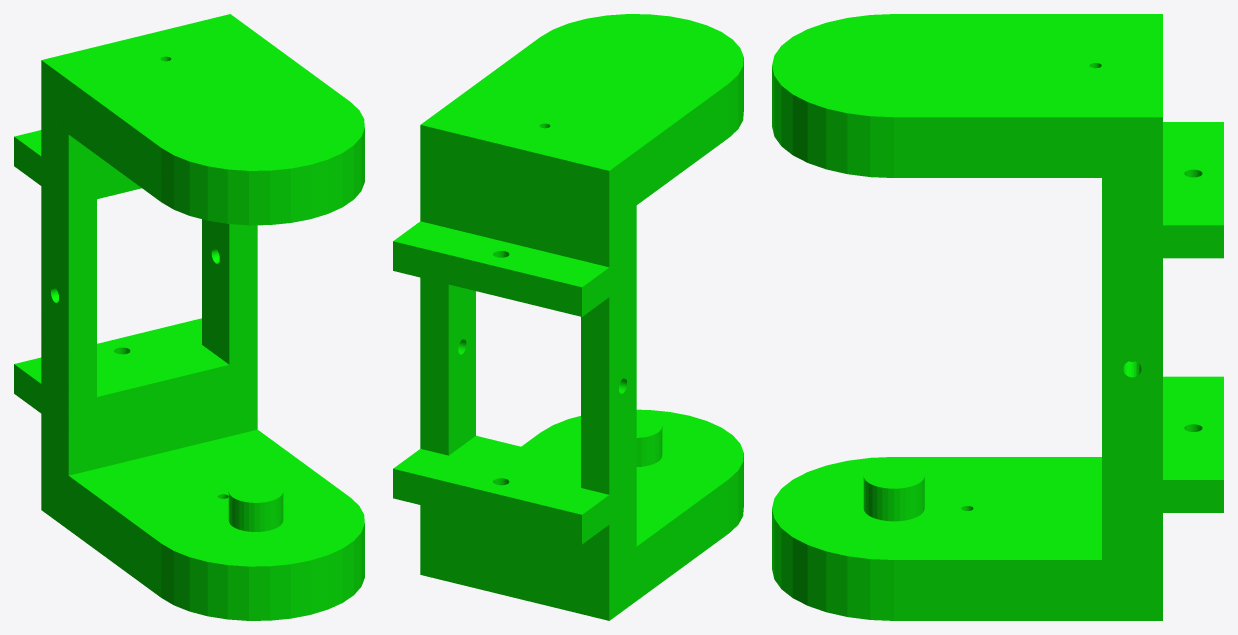
File: joint.glb
The picture shows the model from 3 angles, left to right: view 1: azimuth 30°, elevation 25°; view 2: azimuth 150°, elevation 25°; view 3: azimuth 270°, elevation 25°; orthographic projection. The views are drawn at different scales.
Parts seen in each view (by area): view 1: brace, pin; view 2: brace, pin; view 3: brace, pin.
Boxes of the visible parts, <box> form: brace: <box>14,14,364,620</box>; pin: <box>228,480,283,531</box>; brace: <box>393,14,743,620</box>; pin: <box>636,415,662,466</box>; brace: <box>772,14,1223,620</box>; pin: <box>863,463,924,521</box>.
Size of the model in its own units: 0.2 by 0.4555 by 0.37.
